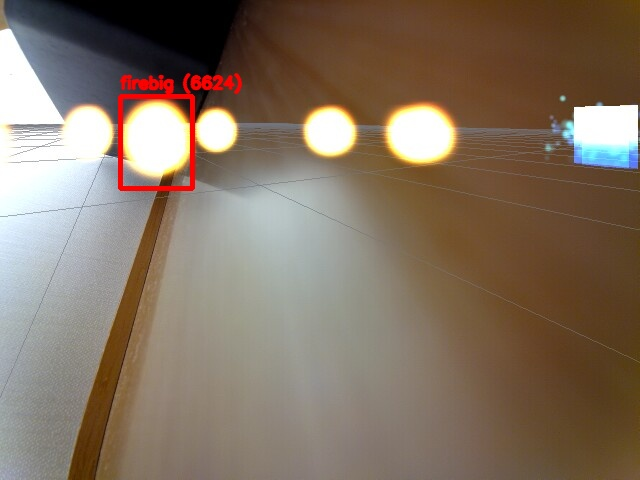firebig: (120, 96, 192, 188)
